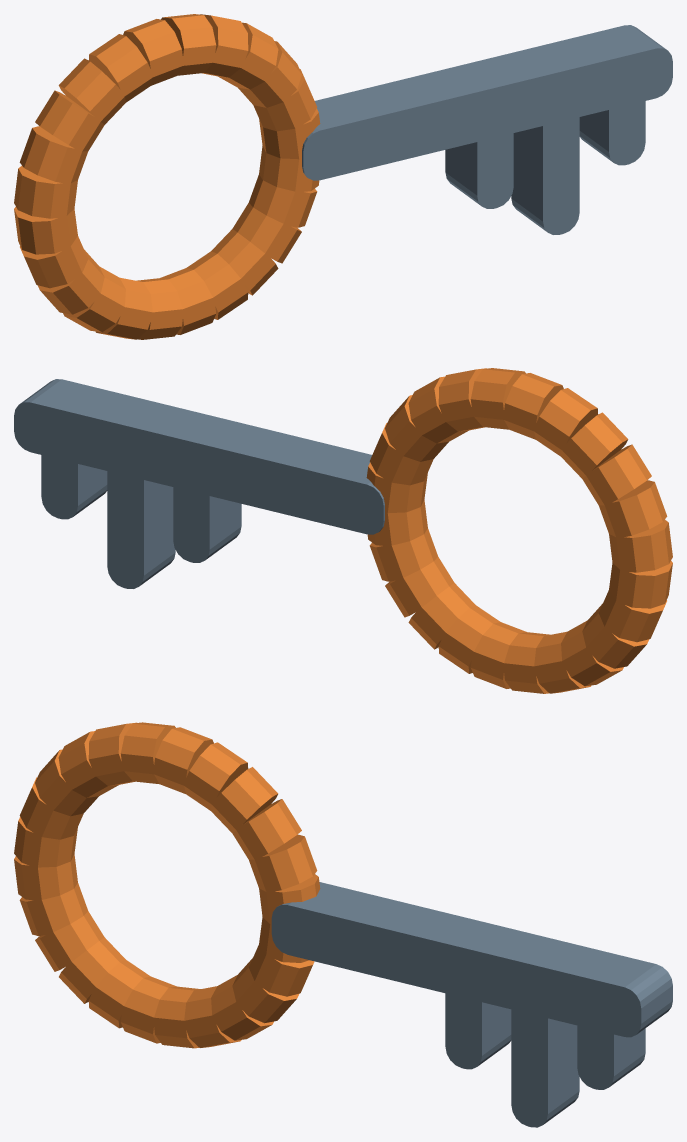
The model's file is key.glb.
3 renders of one model, top to bottom at view 1: azimuth 30°, elevation 25°; view 2: azimuth 150°, elevation 25°; view 3: azimuth 330°, elevation 25°, orthographic.
Visible parts, largest first — view 1: shaft, tooth 1, tooth 0, tooth 2, key ring10, key ring7, key ring8, key ring9, key ring11, key ring6, key ring12, key ring5 (+16 smaller); view 2: shaft, tooth 1, tooth 0, tooth 2, key ring10, key ring7, key ring8, key ring9, key ring11, key ring6, key ring12, key ring5 (+16 smaller); view 3: shaft, tooth 1, tooth 0, tooth 2, key ring1, key ring4, key ring3, key ring2, key ring5, key ring6, key ring14, key ring15 (+16 smaller).
Part boxes in pixels (x1=…): shaft: x1=302, y1=25, x2=672, y2=180; tooth 1: x1=511, y1=103, x2=579, y2=234; tooth 0: x1=445, y1=119, x2=513, y2=208; tooth 2: x1=579, y1=87, x2=645, y2=165; key ring10: x1=19, y1=126, x2=88, y2=184; key ring7: x1=88, y1=34, x2=153, y2=102; key ring8: x1=58, y1=58, x2=125, y2=124; key ring9: x1=35, y1=90, x2=104, y2=151; key ring11: x1=14, y1=166, x2=77, y2=218; key ring6: x1=123, y1=19, x2=183, y2=85; key ring12: x1=14, y1=207, x2=77, y2=254; key ring5: x1=161, y1=14, x2=216, y2=75; shaft: x1=14, y1=379, x2=384, y2=534; tooth 1: x1=107, y1=457, x2=175, y2=588; tooth 0: x1=173, y1=473, x2=241, y2=562; tooth 2: x1=41, y1=442, x2=107, y2=519; key ring10: x1=598, y1=480, x2=667, y2=538; key ring7: x1=533, y1=388, x2=598, y2=456; key ring8: x1=561, y1=412, x2=628, y2=478; key ring9: x1=582, y1=444, x2=651, y2=505; key ring11: x1=609, y1=520, x2=672, y2=572; key ring6: x1=503, y1=373, x2=563, y2=439; key ring12: x1=609, y1=561, x2=672, y2=608; key ring5: x1=470, y1=368, x2=525, y2=429; shaft: x1=271, y1=882, x2=672, y2=1037; tooth 1: x1=511, y1=996, x2=579, y2=1127; tooth 0: x1=445, y1=981, x2=511, y2=1069; tooth 2: x1=577, y1=1012, x2=645, y2=1089; key ring1: x1=249, y1=834, x2=317, y2=891; key ring4: x1=183, y1=742, x2=248, y2=810; key ring3: x1=211, y1=767, x2=278, y2=833; key ring2: x1=232, y1=799, x2=301, y2=859; key ring5: x1=154, y1=727, x2=213, y2=793; key ring6: x1=120, y1=722, x2=175, y2=784; key ring14: x1=35, y1=911, x2=104, y2=971; key ring15: x1=59, y1=937, x2=125, y2=1003.
Size of the model in its own units: 1.75 by 0.8228 by 0.15.
